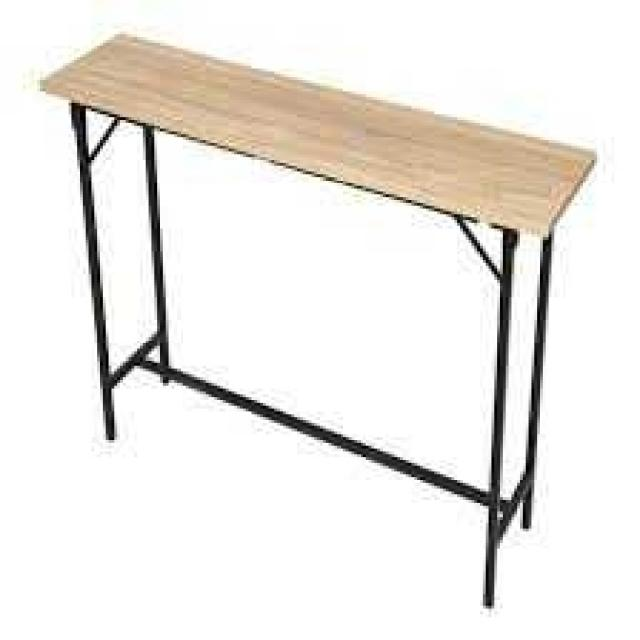table: (17, 17, 612, 617)
